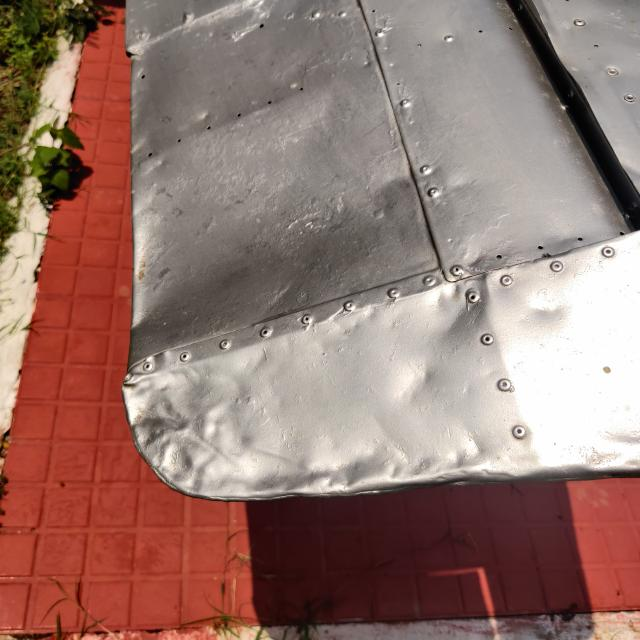dent: (237, 416, 501, 529), (115, 354, 260, 497), (422, 260, 510, 354), (508, 271, 578, 341), (380, 350, 450, 420)
